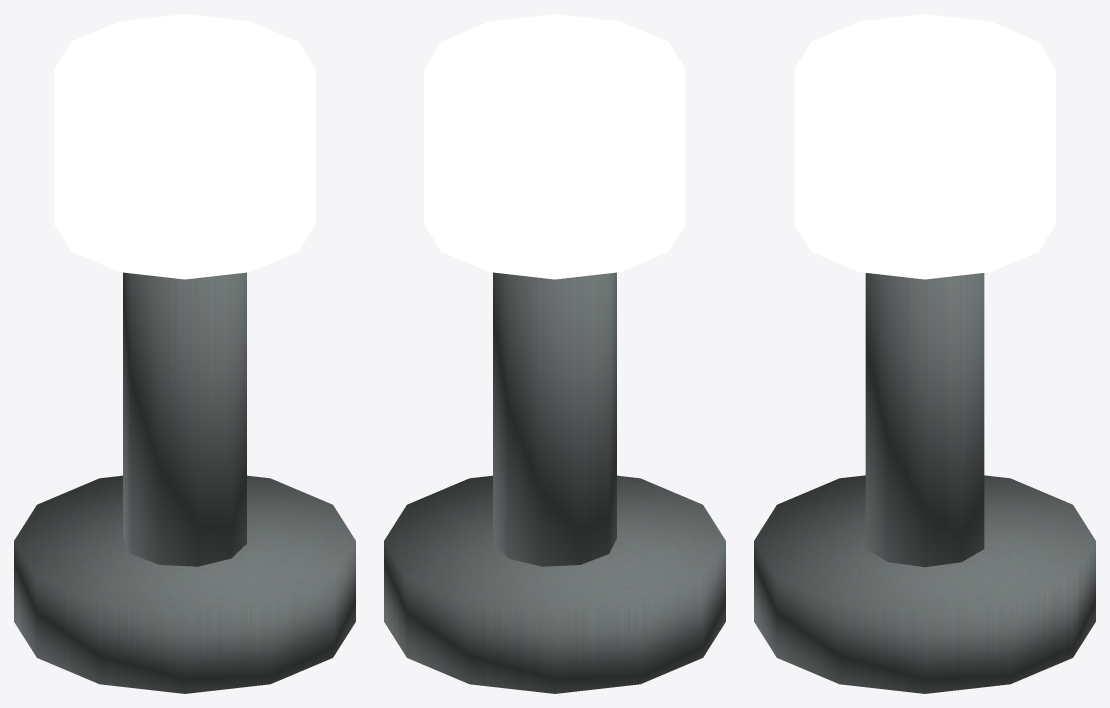
Rendered from PZ_Runway_EdgeLight_White.glb.
The picture shows the model from 3 angles, left to right: view 1: azimuth 30°, elevation 25°; view 2: azimuth 150°, elevation 25°; view 3: azimuth 270°, elevation 25°; orthographic projection.
Parts seen in each view (by area): view 1: Fixture_WHITE_Lens, Fixture_WHITE_Base, Fixture_WHITE_Stem; view 2: Fixture_WHITE_Lens, Fixture_WHITE_Base, Fixture_WHITE_Stem; view 3: Fixture_WHITE_Lens, Fixture_WHITE_Base, Fixture_WHITE_Stem.
Part boxes in pixels (left/top/right/bottom): Fixture_WHITE_Lens: left=54, top=14, right=315, bottom=279; Fixture_WHITE_Base: left=14, top=475, right=355, bottom=693; Fixture_WHITE_Stem: left=123, top=272, right=246, bottom=566; Fixture_WHITE_Lens: left=424, top=14, right=685, bottom=279; Fixture_WHITE_Base: left=384, top=475, right=725, bottom=693; Fixture_WHITE_Stem: left=493, top=272, right=616, bottom=566; Fixture_WHITE_Lens: left=794, top=14, right=1055, bottom=279; Fixture_WHITE_Base: left=754, top=475, right=1095, bottom=693; Fixture_WHITE_Stem: left=865, top=273, right=984, bottom=567.
Size of the model in its own units: 0.23 by 0.41 by 0.23.
2 materials, 1 textured.
